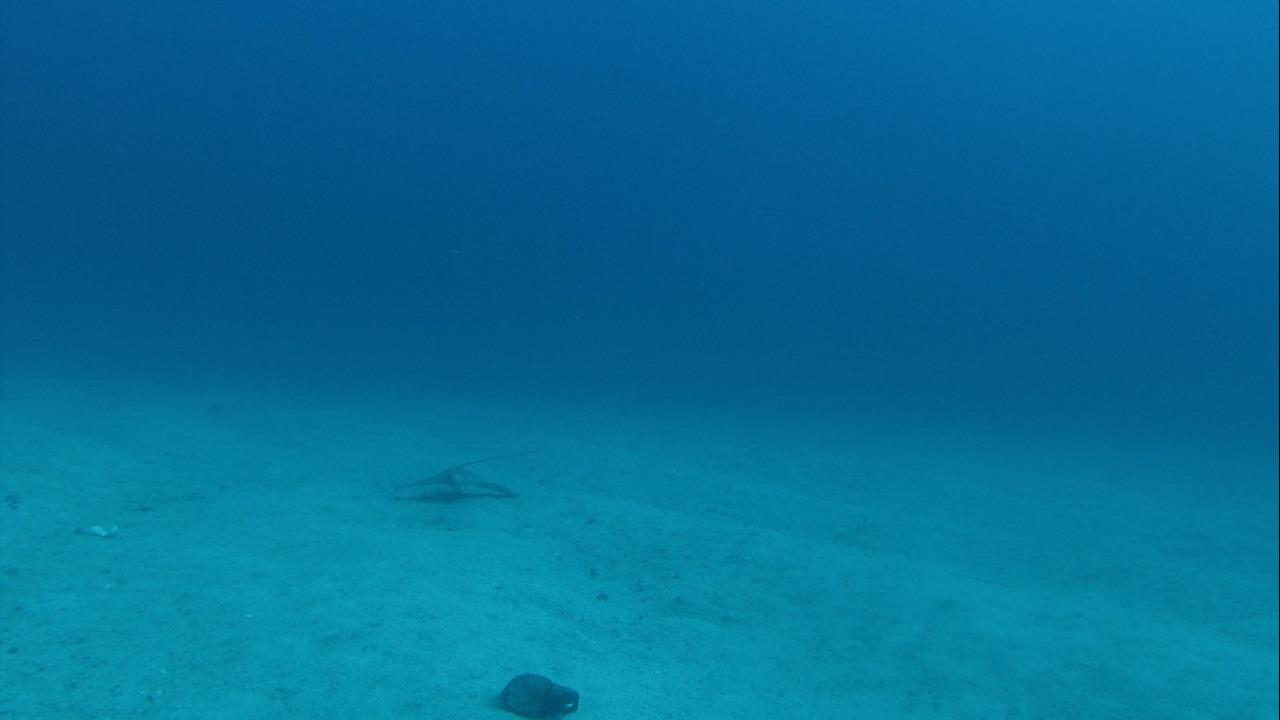myliobatis: (401, 446, 526, 497)
